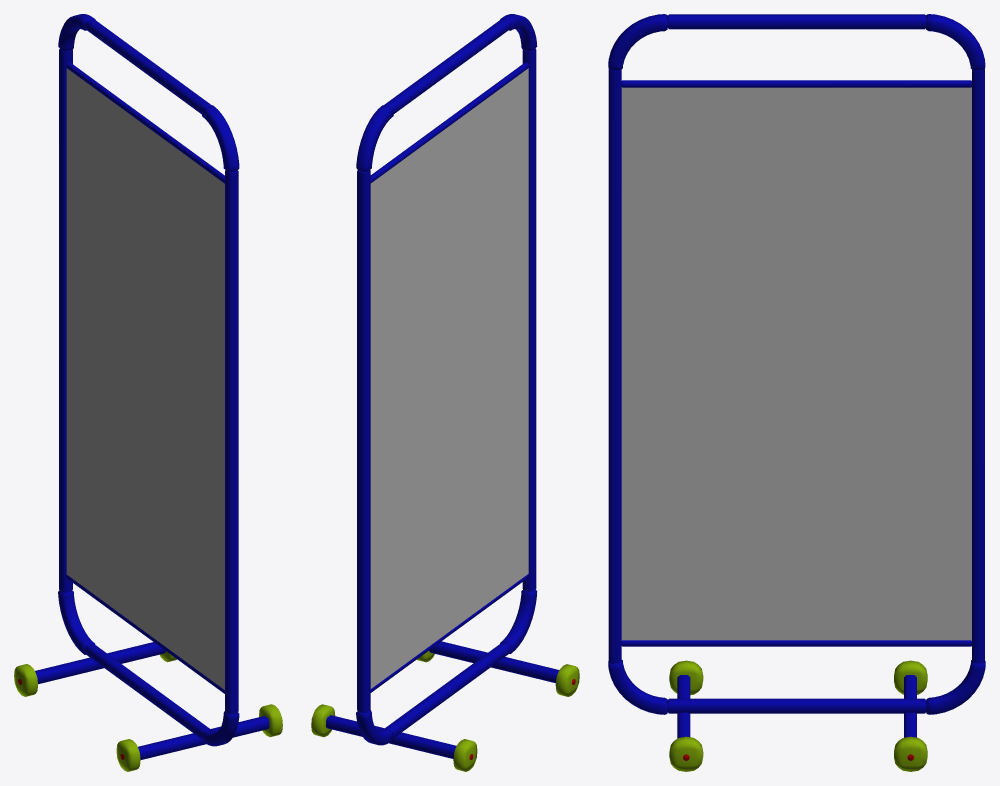
The model's file is screen.fbx.
The picture shows the model from 3 angles, left to right: view 1: azimuth 30°, elevation 25°; view 2: azimuth 150°, elevation 25°; view 3: azimuth 270°, elevation 25°; orthographic projection. The views are drawn at different scales.
Visible parts, largest first — view 1: pasted__polySurface2, pasted__polySurface13, pasted__polySurface7, pasted__polySurface1, pasted__polySurface16, pasted__polySurface6, pasted__polySurface5, pasted__polySurface4, pasted__polySurface15, pasted__polySurface9, pasted__polySurface8, pasted__polySurface14 (+4 smaller); view 2: pasted__polySurface2, pasted__polySurface7, pasted__polySurface13, pasted__polySurface1, pasted__polySurface16, pasted__polySurface5, pasted__polySurface6, pasted__polySurface4, pasted__polySurface12, pasted__polySurface8, pasted__polySurface9, pasted__polySurface14 (+4 smaller); view 3: pasted__polySurface3, pasted__polySurface13, pasted__polySurface7, pasted__polySurface1, pasted__polySurface16, pasted__polySurface4, pasted__polySurface14, pasted__polySurface15, pasted__polySurface12, pasted__polySurface8, pasted__polySurface9, pasted__polySurface17 (+4 smaller).
Boxes of the visible parts, <box> form: pasted__polySurface2: <box>66,68,224,689</box>; pasted__polySurface13: <box>225,170,238,714</box>; pasted__polySurface7: <box>59,49,72,592</box>; pasted__polySurface1: <box>85,18,211,114</box>; pasted__polySurface16: <box>85,643,210,738</box>; pasted__polySurface6: <box>35,642,165,684</box>; pasted__polySurface5: <box>138,716,269,759</box>; pasted__polySurface4: <box>66,62,224,183</box>; pasted__polySurface15: <box>202,105,239,172</box>; pasted__polySurface9: <box>58,590,95,654</box>; pasted__polySurface8: <box>202,711,239,746</box>; pasted__polySurface14: <box>66,575,224,693</box>; pasted__polySurface2: <box>370,68,528,688</box>; pasted__polySurface7: <box>357,170,370,713</box>; pasted__polySurface13: <box>522,48,536,591</box>; pasted__polySurface1: <box>384,18,509,113</box>; pasted__polySurface16: <box>384,642,509,738</box>; pasted__polySurface5: <box>429,641,559,683</box>; pasted__polySurface6: <box>326,715,456,758</box>; pasted__polySurface4: <box>370,62,528,183</box>; pasted__polySurface12: <box>356,105,393,172</box>; pasted__polySurface8: <box>500,589,537,653</box>; pasted__polySurface9: <box>356,710,393,745</box>; pasted__polySurface14: <box>370,574,528,692</box>; pasted__polySurface3: <box>621,87,971,640</box>; pasted__polySurface13: <box>608,68,621,663</box>; pasted__polySurface7: <box>972,68,984,663</box>; pasted__polySurface1: <box>667,14,926,29</box>; pasted__polySurface16: <box>667,698,926,713</box>; pasted__polySurface4: <box>621,80,971,87</box>; pasted__polySurface14: <box>621,640,971,646</box>; pasted__polySurface15: <box>608,14,667,70</box>; pasted__polySurface12: <box>926,14,985,70</box>; pasted__polySurface8: <box>608,660,667,714</box>; pasted__polySurface9: <box>926,660,985,714</box>; pasted__polySurface17: <box>669,736,703,771</box>.
Bounding box in the file's own units: 6.05 × 24.31 × 11.62.
